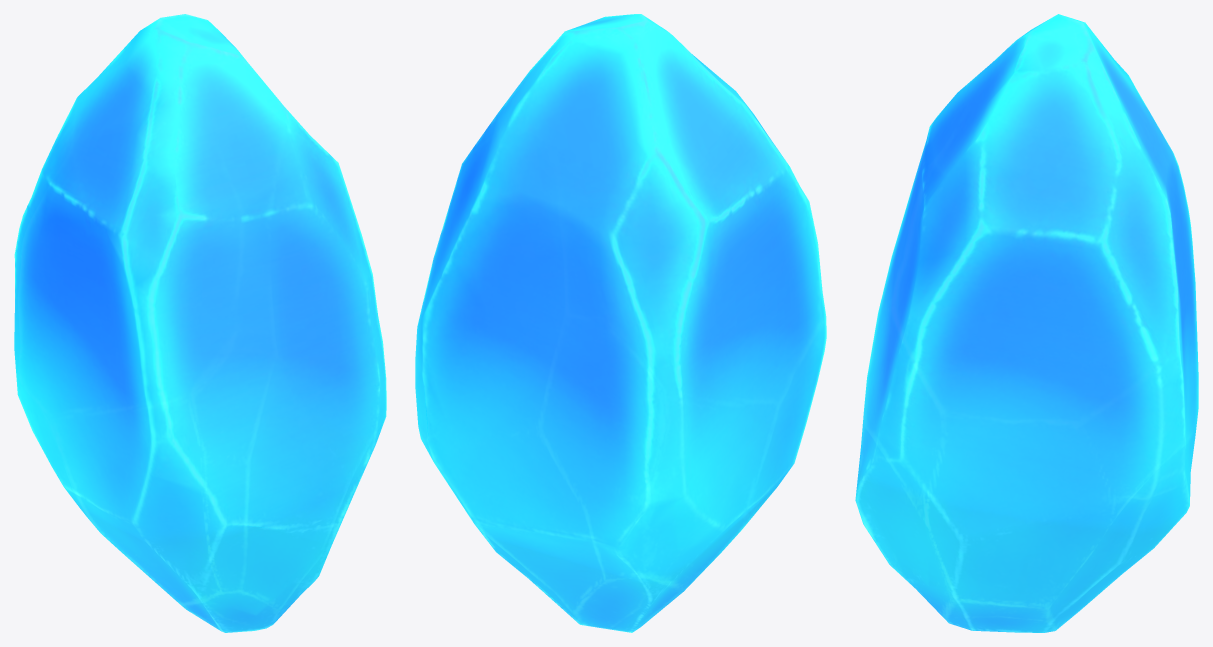
File: Gem.glb
3 renders of one model, left to right at view 1: azimuth 30°, elevation 25°; view 2: azimuth 150°, elevation 25°; view 3: azimuth 270°, elevation 25°, orthographic. The views are drawn at different scales.
Parts seen in each view (by area): view 1: PolySphere; view 2: PolySphere; view 3: PolySphere.
Part boxes in pixels (bbox=[...]): PolySphere: bbox=[14, 14, 386, 632]; PolySphere: bbox=[415, 14, 826, 632]; PolySphere: bbox=[855, 14, 1198, 632].
Size of the model in its own units: 0.9169 by 2 by 1.06.
Materials: 1 (1 with a texture image).
